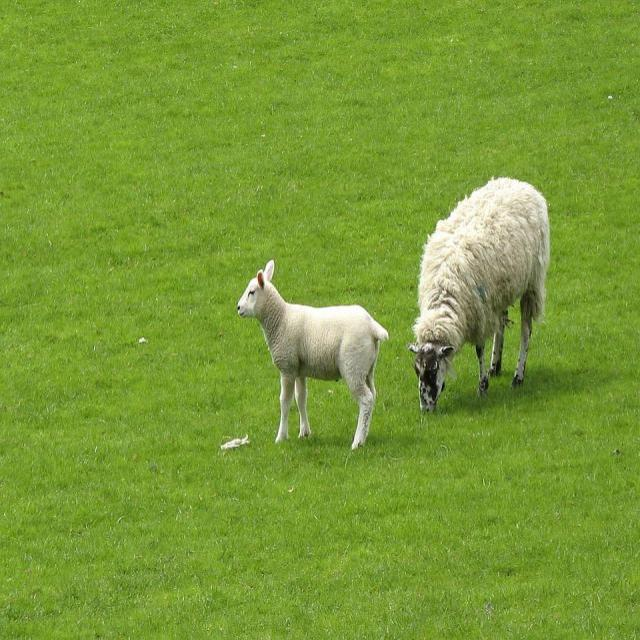Sheep: (407, 178, 551, 413), (236, 256, 391, 451)
